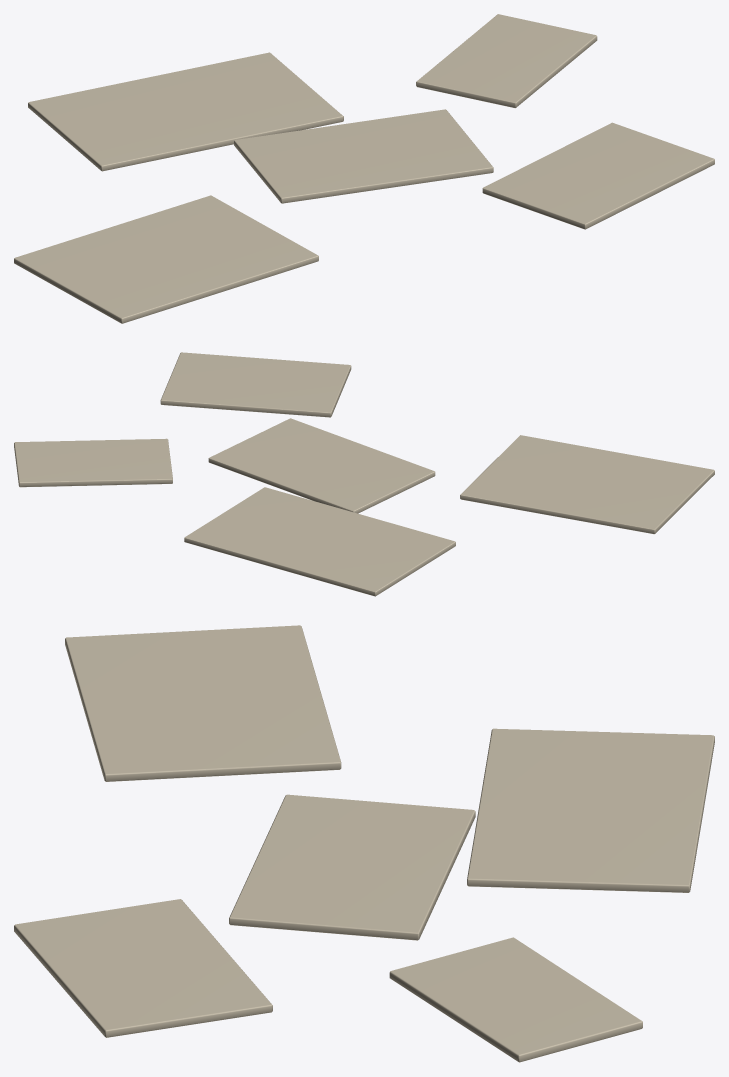
File: prop_scattered_papers_01.glb
The picture shows the model from 3 angles, top to bottom: view 1: azimuth 30°, elevation 25°; view 2: azimuth 150°, elevation 25°; view 3: azimuth 270°, elevation 25°; orthographic projection. The views are drawn at different scales.
Parts seen in each view (by area): view 1: old_paper_04.002, old_paper_01.002, old_paper_02.002, old_paper_03.002, old_paper_05.002; view 2: old_paper_04.002, old_paper_01.002, old_paper_02.002, old_paper_03.002, old_paper_05.002; view 3: old_paper_04.002, old_paper_01.002, old_paper_02.002, old_paper_03.002, old_paper_05.002.
Boxes of the visible parts, x1=… form: old_paper_04.002: x1=28, y1=52, x2=343, y2=171; old_paper_01.002: x1=14, y1=195, x2=318, y2=323; old_paper_02.002: x1=234, y1=109, x2=493, y2=203; old_paper_03.002: x1=482, y1=122, x2=714, y2=229; old_paper_05.002: x1=416, y1=14, x2=597, y2=108; old_paper_04.002: x1=184, y1=487, x2=455, y2=596; old_paper_01.002: x1=460, y1=435, x2=714, y2=534; old_paper_02.002: x1=208, y1=418, x2=435, y2=513; old_paper_03.002: x1=160, y1=352, x2=351, y2=417; old_paper_05.002: x1=14, y1=438, x2=172, y2=487; old_paper_04.002: x1=467, y1=728, x2=714, y2=892; old_paper_01.002: x1=65, y1=625, x2=341, y2=781; old_paper_02.002: x1=229, y1=794, x2=475, y2=940; old_paper_03.002: x1=14, y1=899, x2=272, y2=1037; old_paper_05.002: x1=389, y1=937, x2=642, y2=1062.
Bounding box in the file's own units: 0.6826 × 0.006 × 0.4699.
